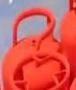cylinder: (1, 0, 76, 90)
